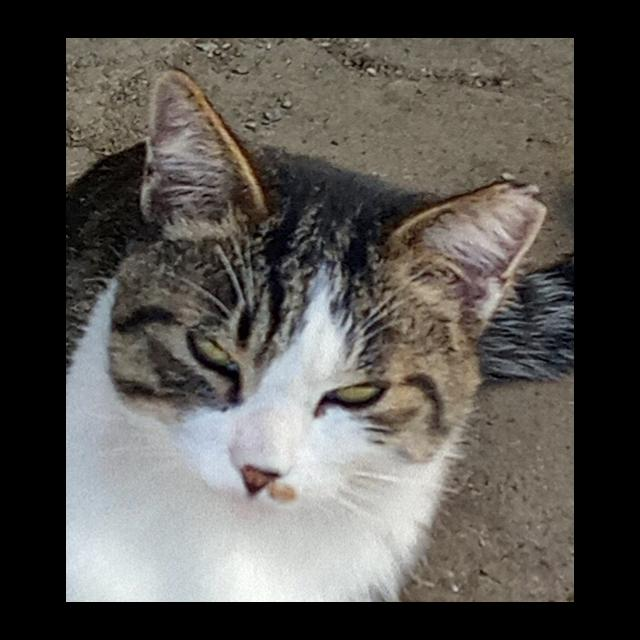animals: (102, 60, 553, 522)
